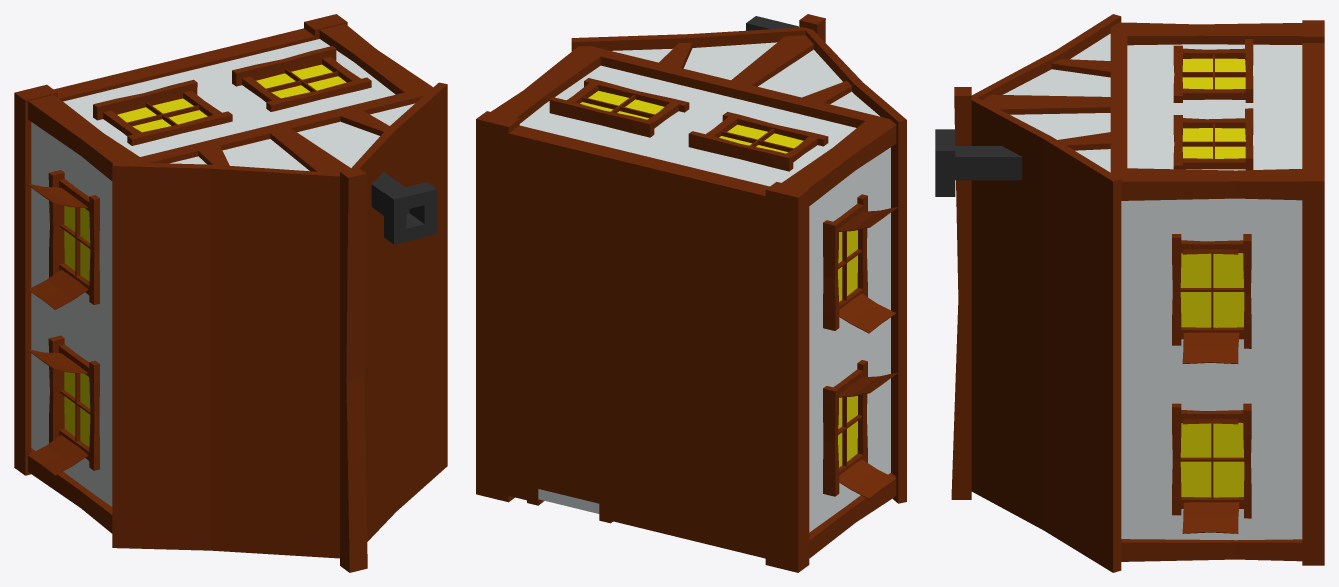
Rendered from House01.fbx.
The picture shows the model from 3 angles, left to right: view 1: azimuth 30°, elevation 25°; view 2: azimuth 150°, elevation 25°; view 3: azimuth 270°, elevation 25°; orthographic projection. The views are drawn at different scales.
Visible parts, largest first — view 1: House_01; view 2: House_01; view 3: House_01.
Boxes of the visible parts, bbox=[...] form: House_01: bbox=[14, 14, 447, 572]; House_01: bbox=[476, 14, 906, 572]; House_01: bbox=[935, 14, 1324, 572].
Size of the model in its own units: 7.46 by 7.23 by 6.32.
